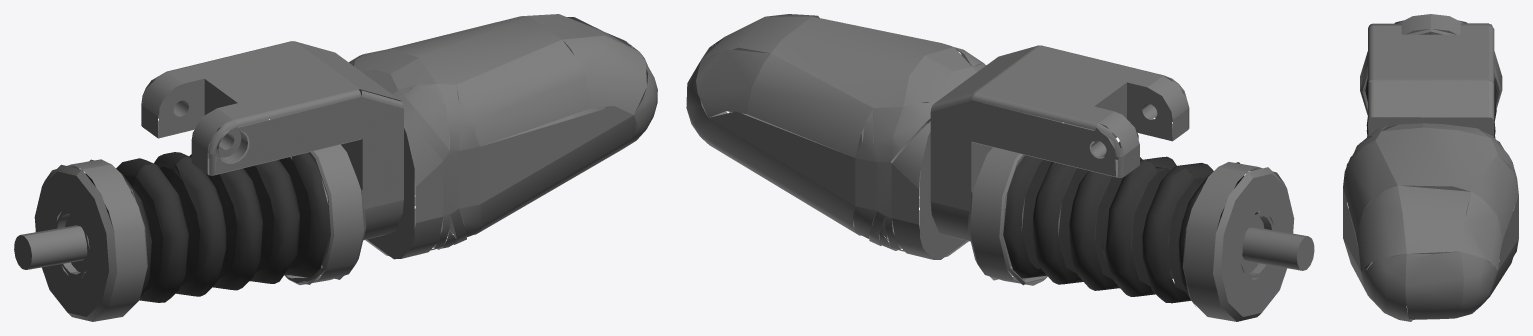
File: handr_finger_middle2_joint.obj
The picture shows the model from 3 angles, left to right: view 1: azimuth 30°, elevation 25°; view 2: azimuth 150°, elevation 25°; view 3: azimuth 270°, elevation 25°; orthographic projection. The views are drawn at different scales.
Size of the model in its own units: 0.0599 by 0.0193 by 0.0167.
Materials: 1 (1 with a texture image).
